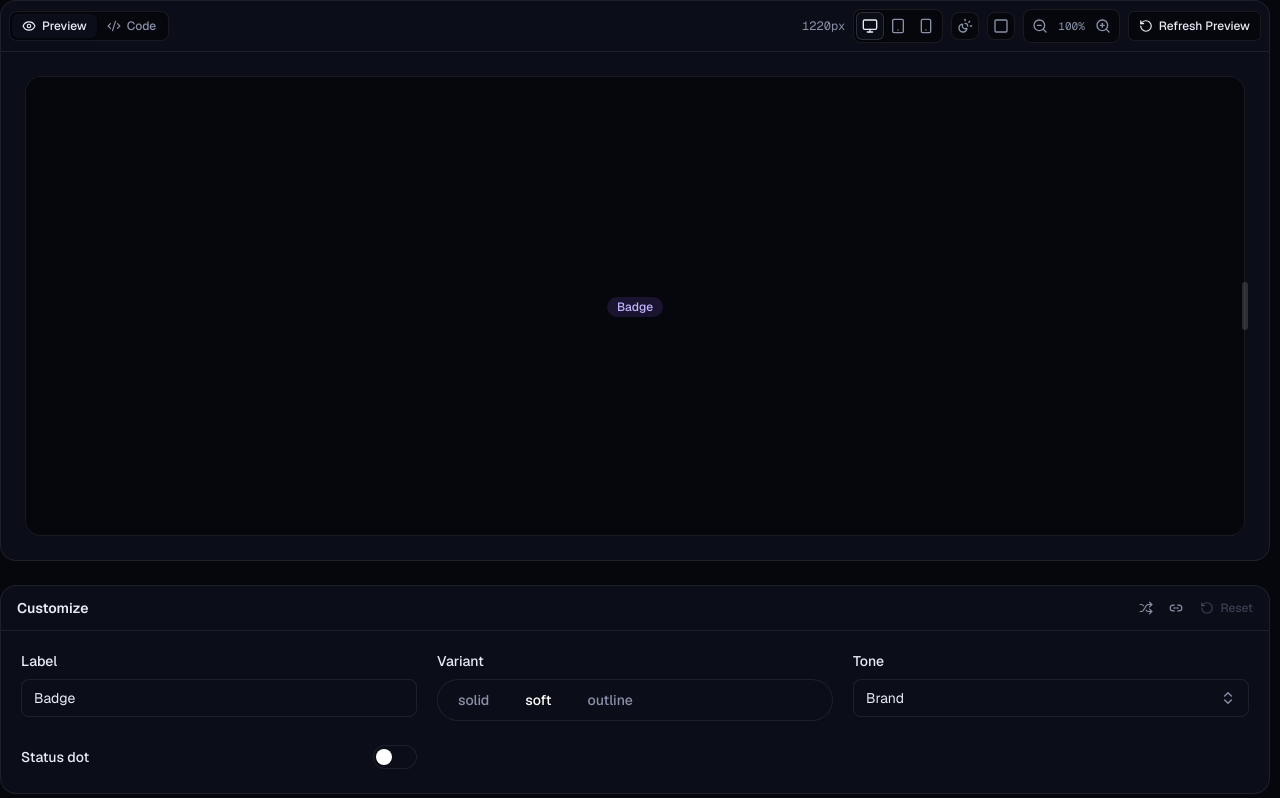
Test: ComponentPlayground › shows the source with its target path on the Code tab
Click the tab "Code" at (131, 26), box [97,14,166,38]
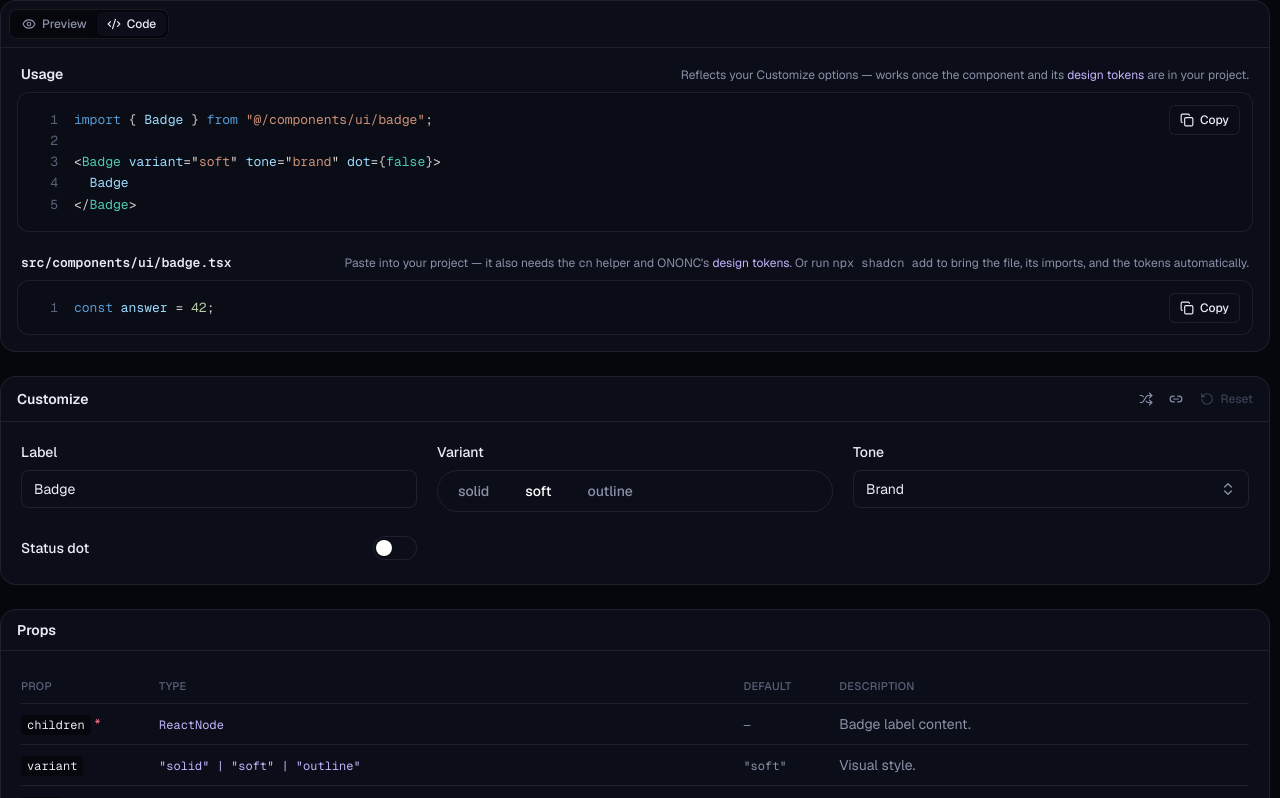
Result: the button with aria-label "copy code" is shown at [1169,105,1240,135]
Result: the text "src/components/ui/badge.tsx" is shown at [21,254,232,271]
Result: the button "Mobile" is gone
